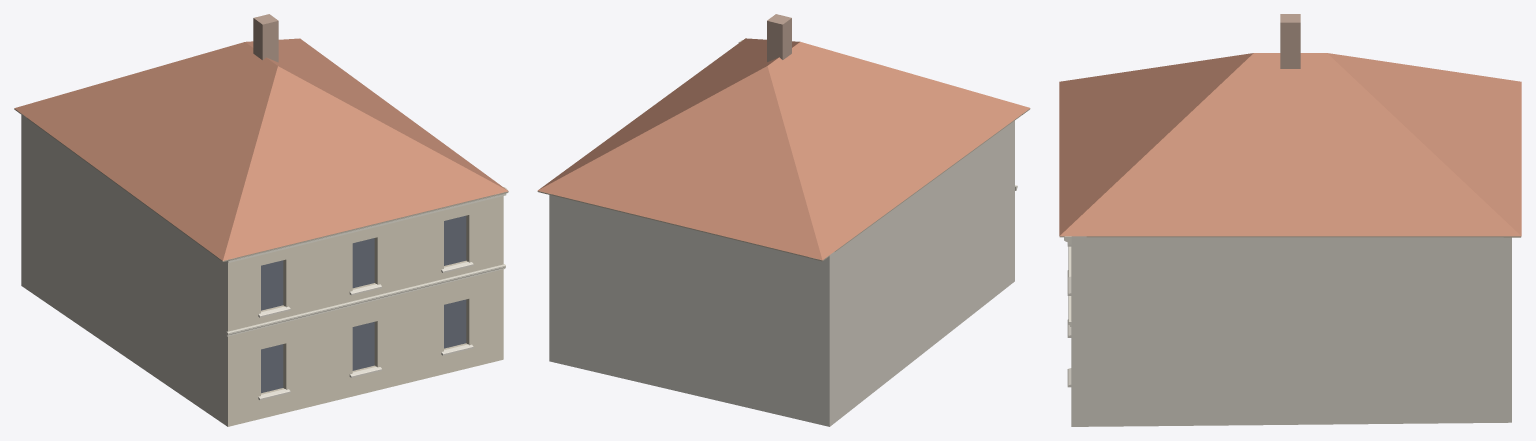
The picture shows the model from 3 angles, left to right: view 1: azimuth 30°, elevation 25°; view 2: azimuth 150°, elevation 25°; view 3: azimuth 270°, elevation 25°; orthographic projection. The views are drawn at different scales.
Parts seen in each view (by area): view 1: CP_259_Masonry, CP_259_Roof, CP_259_Cornice_string_0, CP_259_Chimney_0, CP_259_Cornice_eave_0; view 2: CP_259_Masonry, CP_259_Roof, CP_259_Chimney_0, CP_259_Roof_EaveClosure_2; view 3: CP_259_Masonry, CP_259_Roof, CP_259_Chimney_0, CP_259_Roof_EaveClosure_1.
Boxes of the visible parts, <box> form: CP_259_Masonry: <box>21,114,503,426</box>; CP_259_Roof: <box>14,38,508,260</box>; CP_259_Cornice_string_0: <box>226,264,505,336</box>; CP_259_Chimney_0: <box>253,14,278,62</box>; CP_259_Cornice_eave_0: <box>226,187,507,262</box>; CP_259_Masonry: <box>549,121,1014,426</box>; CP_259_Roof: <box>537,38,1029,260</box>; CP_259_Chimney_0: <box>767,14,791,62</box>; CP_259_Roof_EaveClosure_2: <box>551,194,829,261</box>; CP_259_Masonry: <box>1071,236,1511,426</box>; CP_259_Roof: <box>1059,53,1521,236</box>; CP_259_Chimney_0: <box>1280,14,1300,68</box>; CP_259_Roof_EaveClosure_1: <box>1059,236,1521,237</box>.
Bounding box in the file's own units: 12.55 × 12.6 × 15.8.
